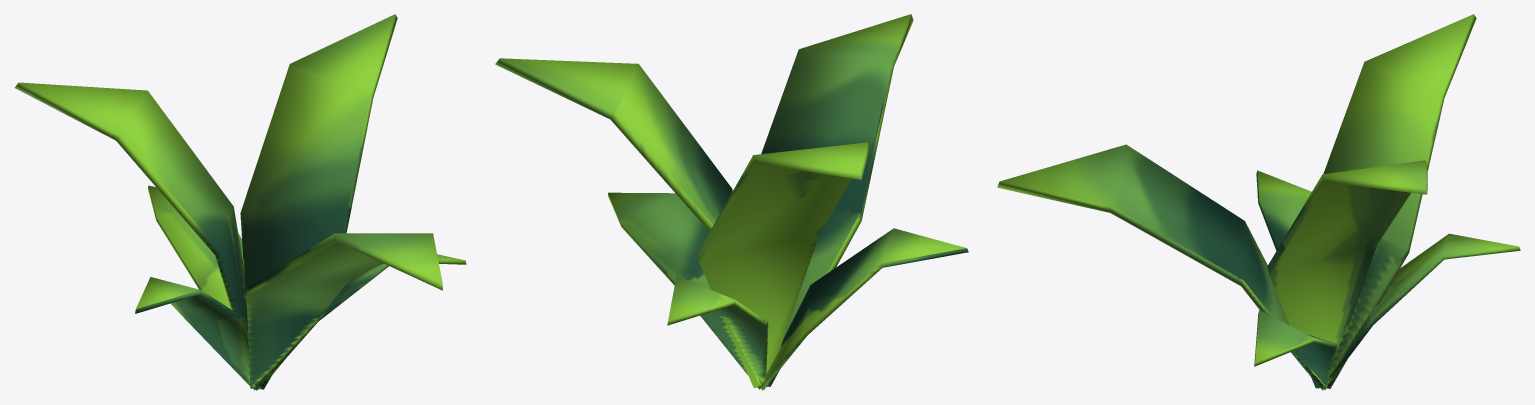
The model's file is grass1.fbx.
3 renders of one model, left to right at view 1: azimuth 30°, elevation 25°; view 2: azimuth 150°, elevation 25°; view 3: azimuth 270°, elevation 25°, orthographic. The views are drawn at different scales.
Parts seen in each view (by area): view 1: grass.001; view 2: grass.001; view 3: grass.001.
Boxes of the visible parts, bbox=[...] form: grass.001: bbox=[14, 14, 466, 390]; grass.001: bbox=[495, 14, 968, 390]; grass.001: bbox=[997, 14, 1520, 390].
Bounding box in the file's own units: 239 × 186 × 300.
